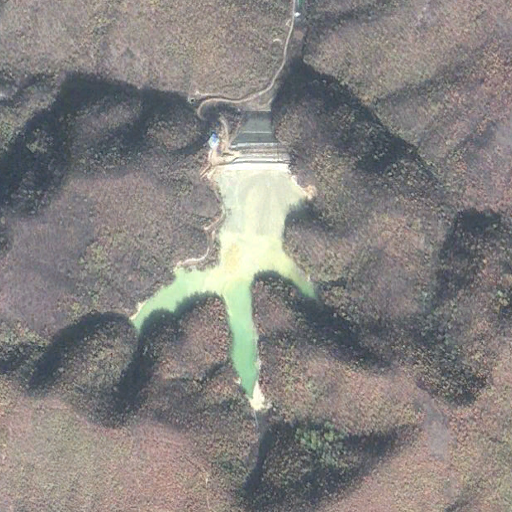tp: (130, 113, 320, 409)
